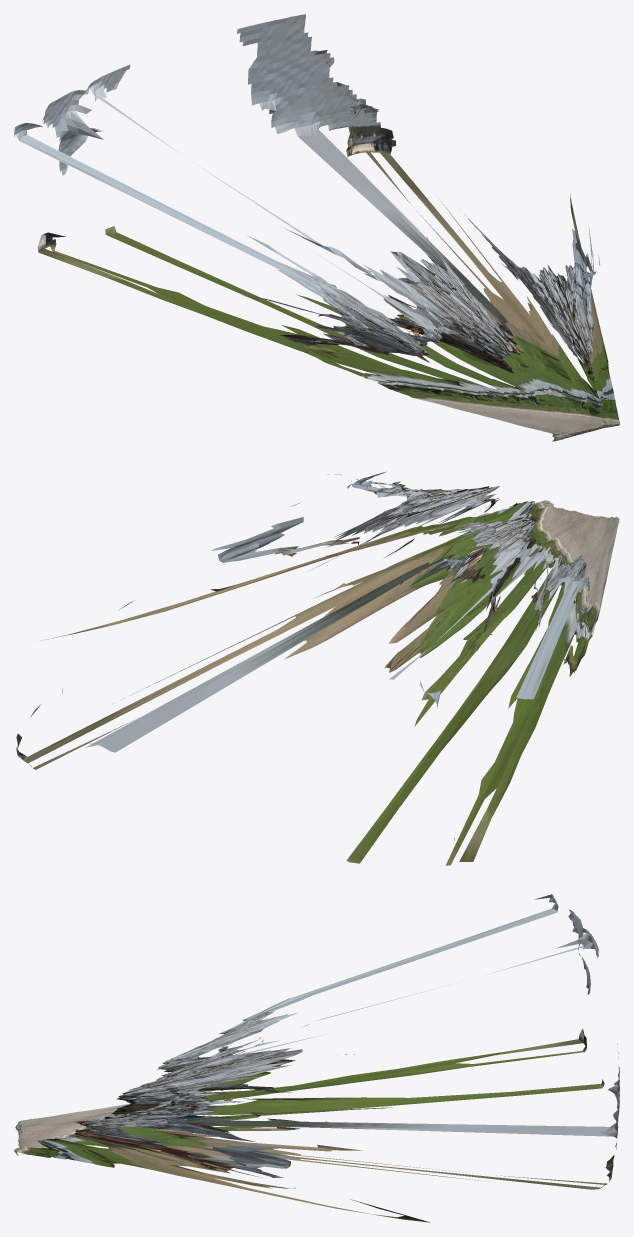
3 renders of one model, top to bottom at view 1: azimuth 30°, elevation 25°; view 2: azimuth 150°, elevation 25°; view 3: azimuth 270°, elevation 25°, orthographic. The views are drawn at different scales.
Visible parts, largest first — view 1: defaultobject; view 2: defaultobject; view 3: defaultobject.
Part boxes in pixels (<box>): defaultobject: <box>14,14,619,441</box>; defaultobject: <box>16,471,619,865</box>; defaultobject: <box>14,894,619,1222</box>.
Size of the model in its own units: 36.44 by 12.02 by 44.39.
Materials: 1 (1 with a texture image).
